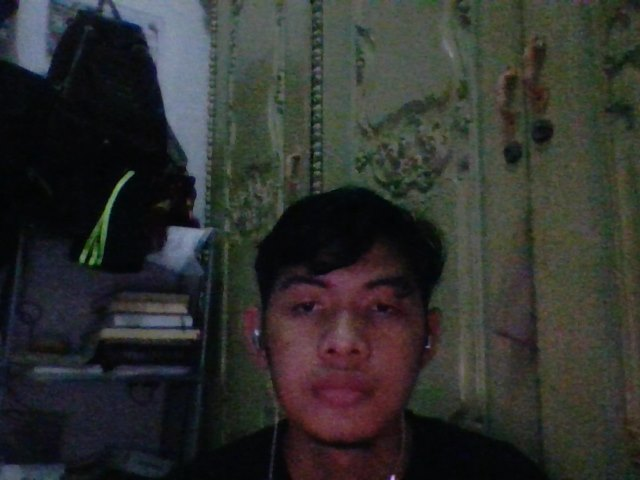NoMask: (254, 340, 448, 439)
